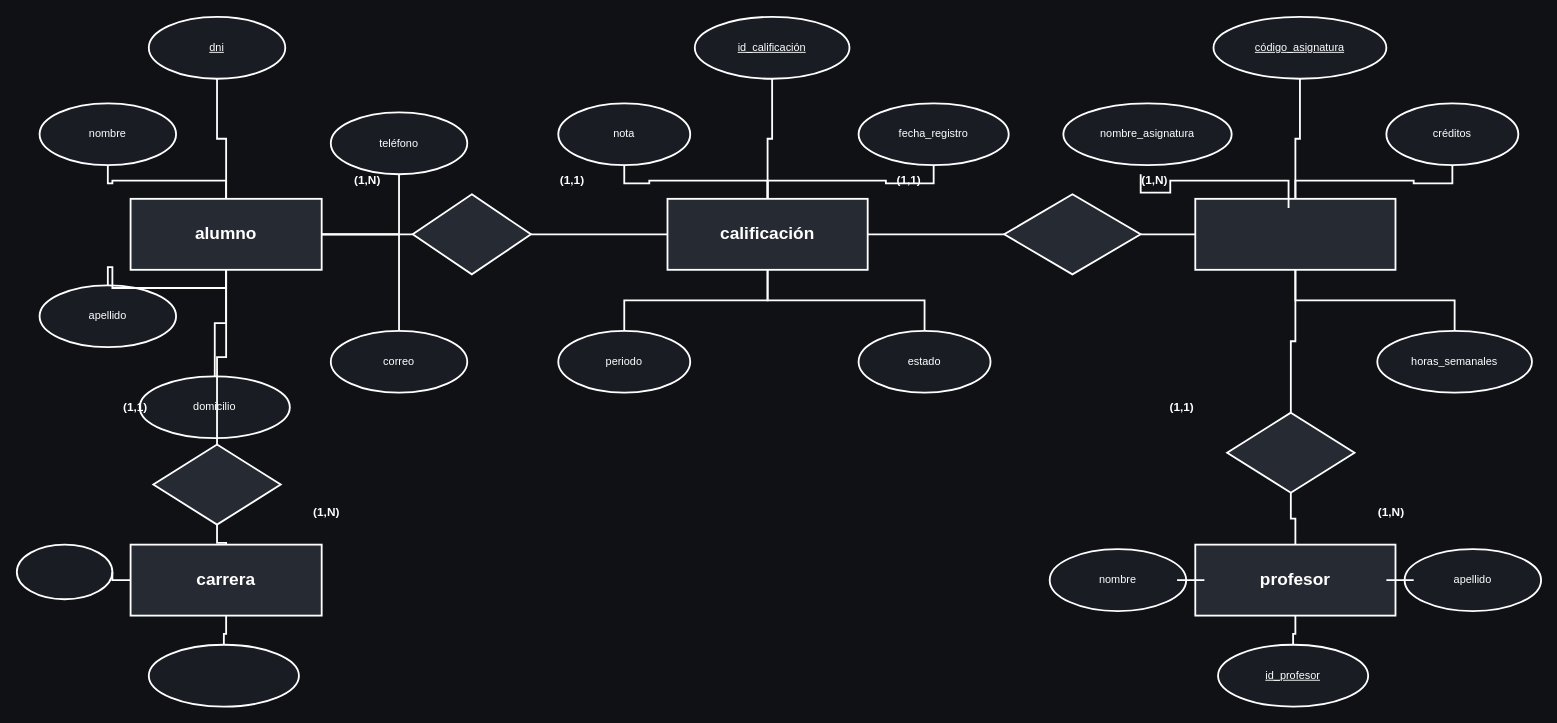
The diagram is 1557 pixels wide and 723 high, and some of its shapes have lost their labels. Here are the shapes that lost their labels. From the top down, the centre of each, then its label:
(471,234): obtiene
(1072,234): corresponde
(1295,233): asignatura
(1290,452): imparte
(216,484): pertenece
(64,571): nombre_carrera
(223,675): id_carrera
